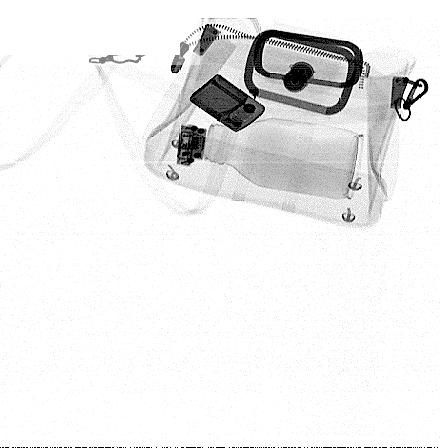Lighter: (189, 73, 265, 133)
